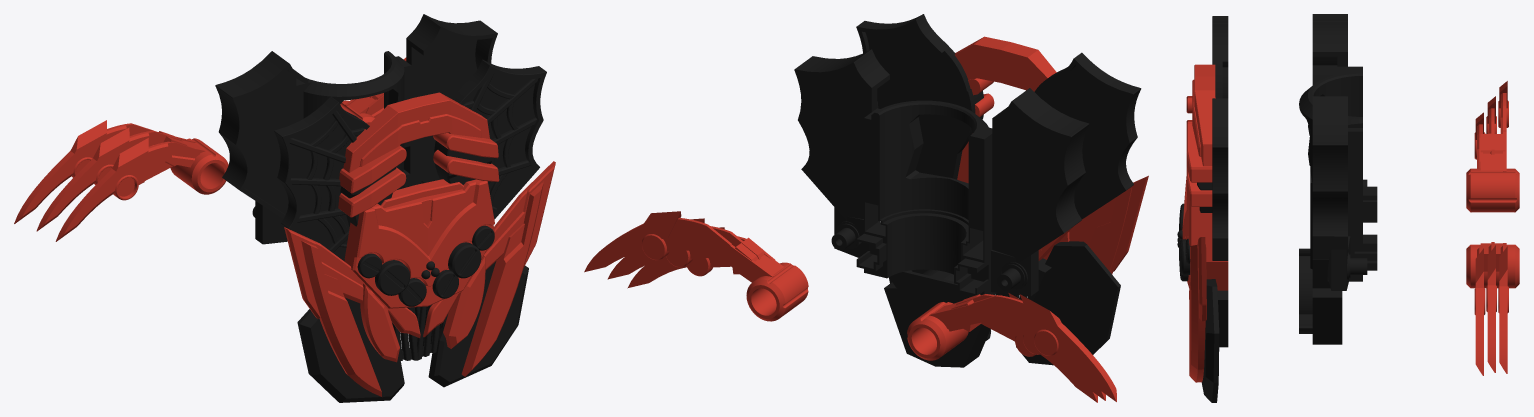
The model's file is Killbas Spider v23.fbx.
3 views of the same model, side by side, from view 1: azimuth 30°, elevation 25°; view 2: azimuth 150°, elevation 25°; view 3: azimuth 270°, elevation 25° (orthographic). The views are drawn at different scales.
Visible parts, largest first — view 1: Body1 (×4), Body25, Body43, Body33, Body49, Body78, Body10, Body81, Body21, Body80, Body31, Body44 (+14 smaller); view 2: Body1 (×4), Body43, Body25, Body49, Body33, Body21, Body10, Body46; view 3: Body1 (×4), Body43, Body33, Body78, Body81, Body25, Body48, Body80, Body51, Body47, Body15.
Boxes of the visible parts, left/top/right/bottom form: Body1 (×4): left=14, top=14, right=497, bottom=308; Body25: left=274, top=96, right=369, bottom=261; Body43: left=454, top=59, right=546, bottom=219; Body33: left=343, top=92, right=489, bottom=172; Body49: left=297, top=297, right=404, bottom=402; Body78: left=461, top=181, right=543, bottom=376; Body10: left=301, top=240, right=381, bottom=396; Body81: left=428, top=261, right=528, bottom=387; Body21: left=284, top=227, right=420, bottom=337; Body80: left=423, top=161, right=555, bottom=337; Body31: left=288, top=110, right=356, bottom=251; Body44: left=469, top=72, right=538, bottom=212; Body1 (×4): left=584, top=49, right=1116, bottom=402; Body43: left=856, top=14, right=970, bottom=179; Body25: left=1034, top=52, right=1141, bottom=219; Body49: left=1016, top=241, right=1120, bottom=365; Body33: left=955, top=36, right=1056, bottom=91; Body21: left=1043, top=175, right=1148, bottom=272; Body10: left=1089, top=188, right=1131, bottom=274; Body46: left=924, top=89, right=983, bottom=167; Body1 (×4): left=1182, top=14, right=1519, bottom=375; Body43: left=1212, top=98, right=1228, bottom=260; Body33: left=1192, top=64, right=1215, bottom=166; Body78: left=1189, top=244, right=1206, bottom=382; Body81: left=1201, top=279, right=1219, bottom=402; Body25: left=1212, top=16, right=1228, bottom=98; Body48: left=1186, top=123, right=1212, bottom=182; Body80: left=1197, top=237, right=1206, bottom=321; Body51: left=1217, top=290, right=1228, bottom=347; Body47: left=1186, top=167, right=1212, bottom=206; Body15: left=1179, top=239, right=1190, bottom=275.
Size of the model in its own units: 210 by 122 by 120.
